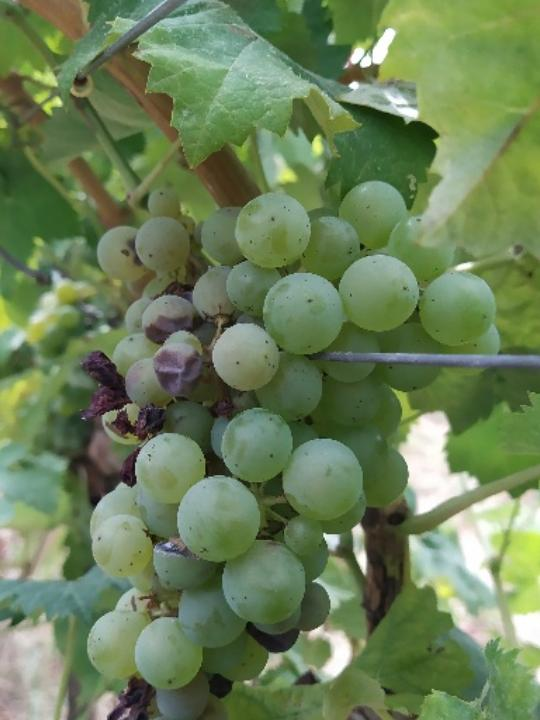grape: (75, 176, 506, 720)
